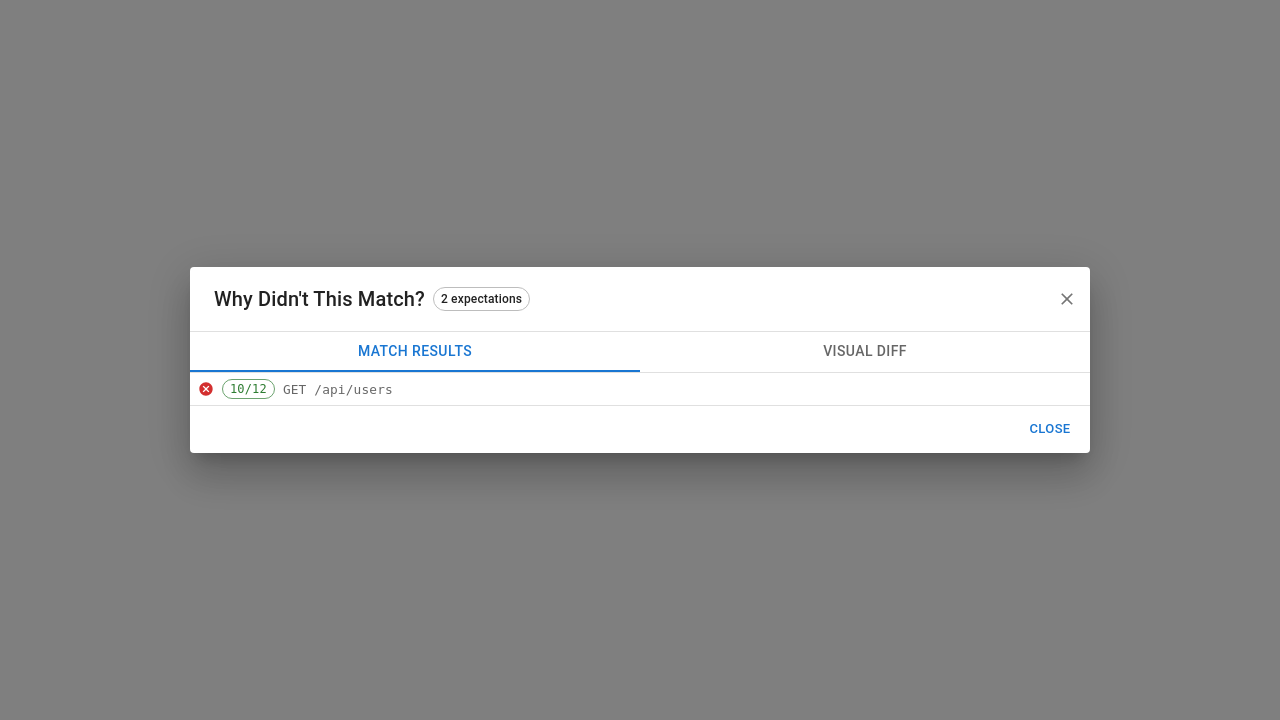
Test: DebugMismatchDialog › Visual diff tab › shows a fallback message when no candidate has field-level differences
Click the tab "Visual diff": (865, 352) [640,332,1090,372]
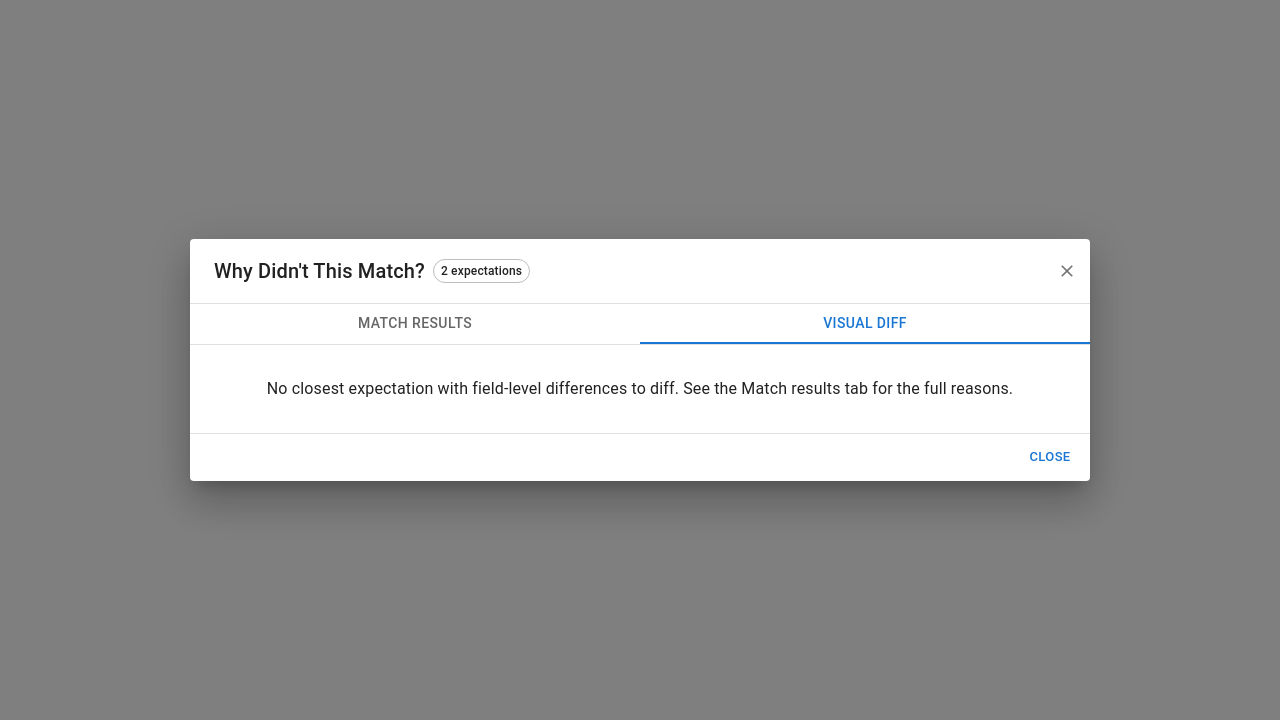
Expected: the text "No closest expectation with field-level differences" is shown, [267,379,1013,398]
